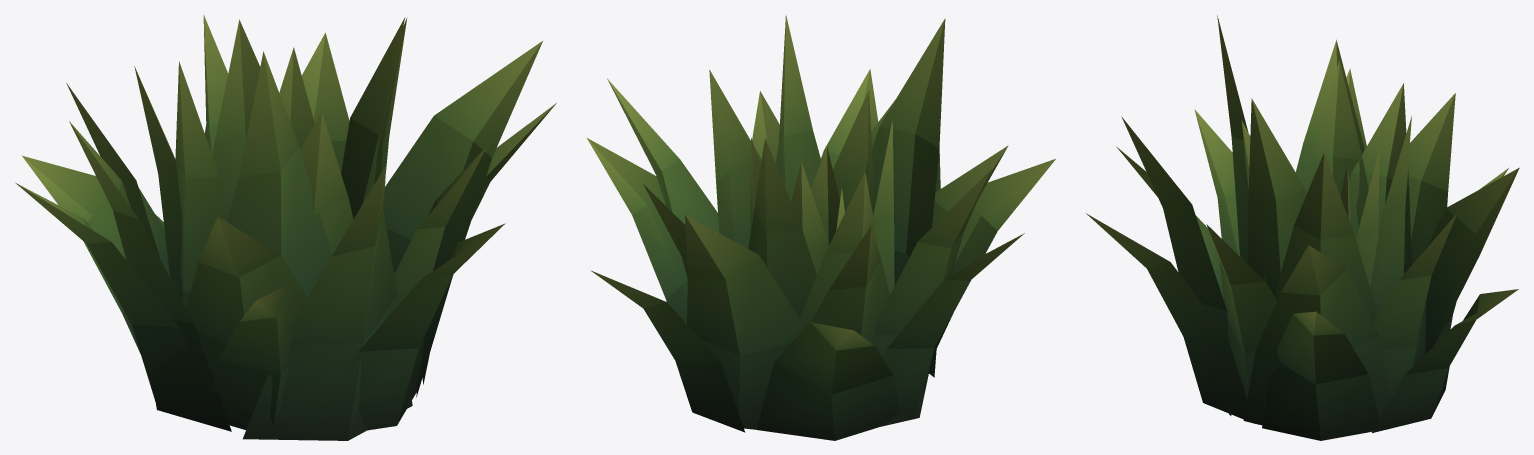
Rendered from grass_clump.glb.
3 views of the same model, side by side, from view 1: azimuth 30°, elevation 25°; view 2: azimuth 150°, elevation 25°; view 3: azimuth 270°, elevation 25° (orthographic). The views are drawn at different scales.
Visible parts, largest first — view 1: GrassClump; view 2: GrassClump; view 3: GrassClump.
Part boxes in pixels (box(x1,y1,x2,y2)): GrassClump: box(15, 15, 556, 440); GrassClump: box(587, 15, 1055, 440); GrassClump: box(1086, 15, 1519, 440).
Bounding box in the file's own units: 0.5604 × 0.4088 × 0.4774.
